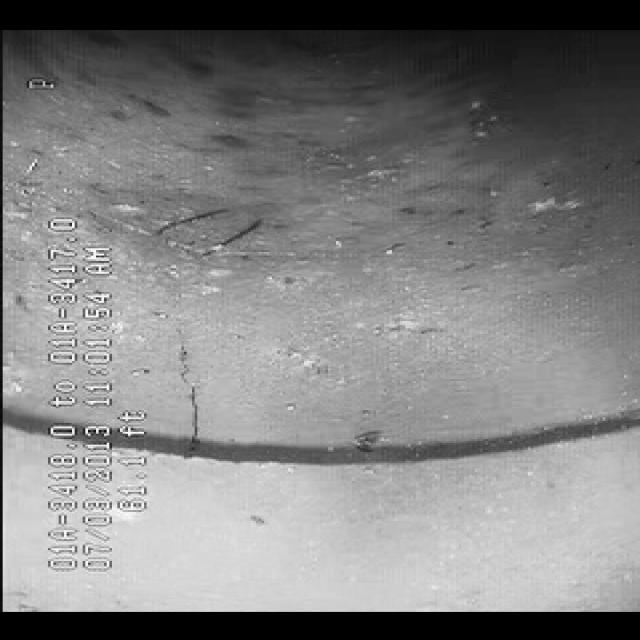Crack: (152, 262, 230, 428)
